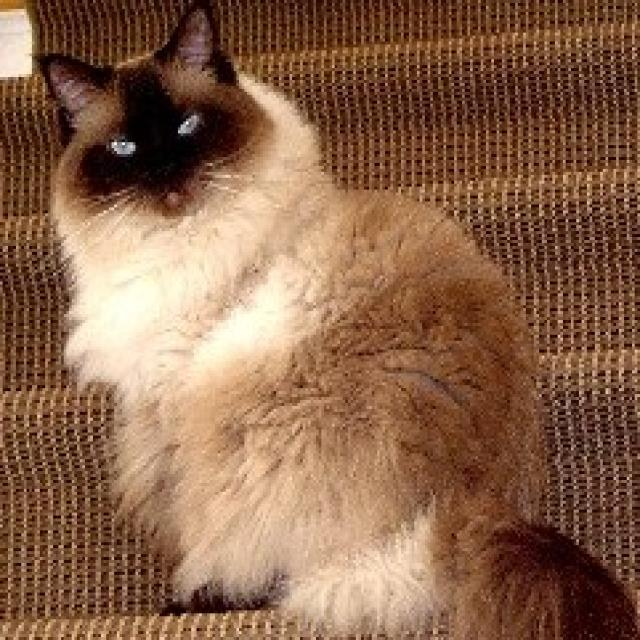Ragdoll: (30, 0, 275, 234)
